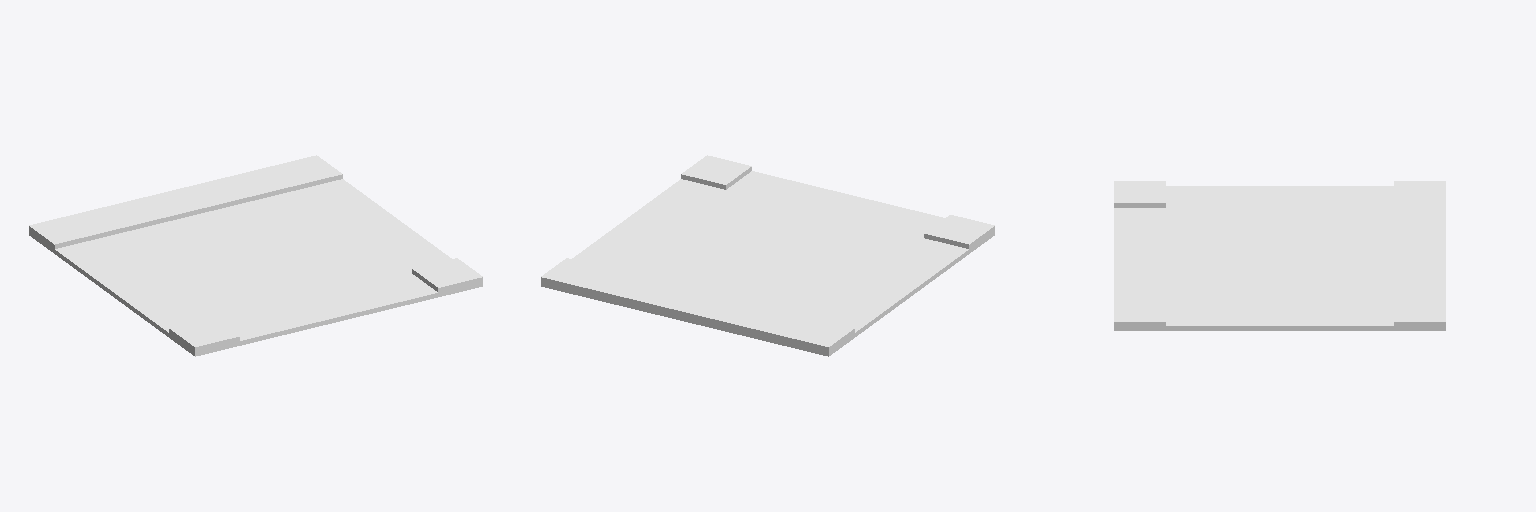
The model's file is RoadT.obj.
The picture shows the model from 3 angles: view 1: azimuth 30°, elevation 25°; view 2: azimuth 150°, elevation 25°; view 3: azimuth 270°, elevation 25°; orthographic projection.
Visible parts, largest first — view 1: object 1; view 2: object 1; view 3: object 1.
Part boxes in pixels (x1,y1,x2,y2): object 1: (29,155,482,356); object 1: (541,155,994,356); object 1: (1114,181,1445,330).
Size of the model in its own units: 6.4 by 0.2 by 6.4.